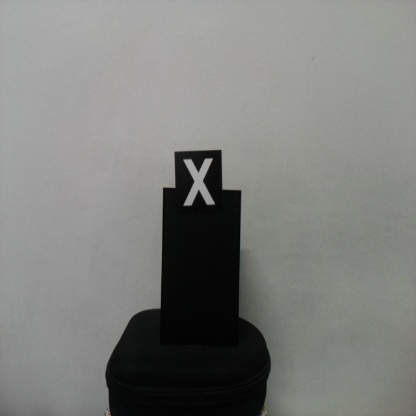id_13: (173, 152, 222, 220)
